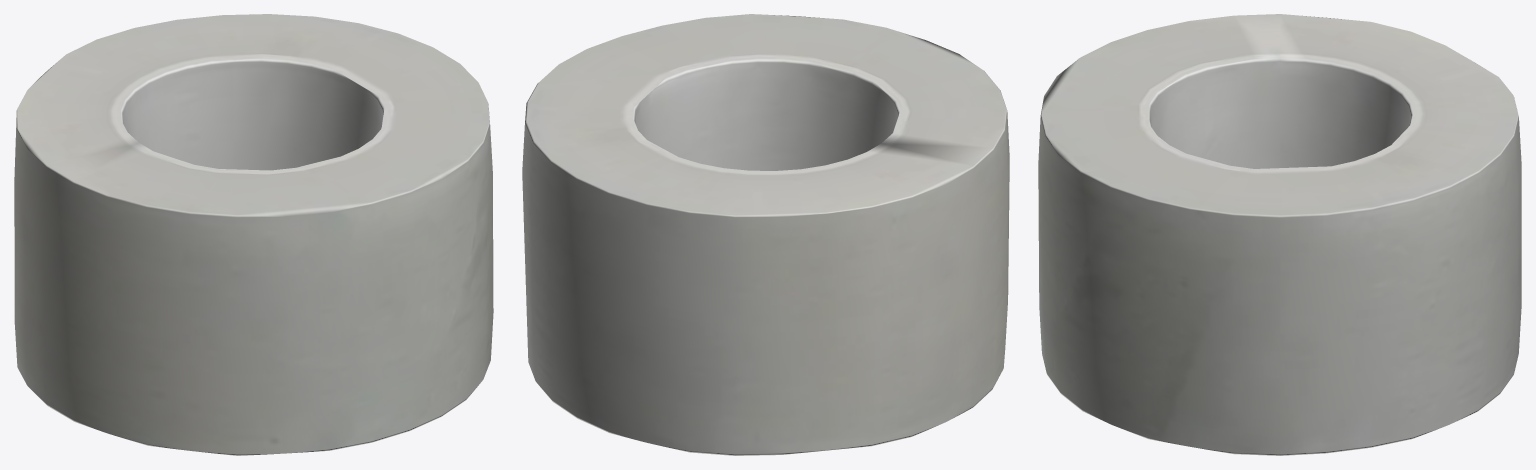
Rendered from tape.glb.
3 views of the same model, side by side, from view 1: azimuth 30°, elevation 25°; view 2: azimuth 150°, elevation 25°; view 3: azimuth 270°, elevation 25° (orthographic).
Parts seen in each view (by area): view 1: medical_tape; view 2: medical_tape; view 3: medical_tape.
Part boxes in pixels (left/top/right/bottom): medical_tape: left=14, top=14, right=493, bottom=455; medical_tape: left=522, top=14, right=1009, bottom=455; medical_tape: left=1038, top=14, right=1521, bottom=455.
Bounding box in the file's own units: 0.0453 × 0.025 × 0.0451.
Materials: 1 (1 with a texture image).
